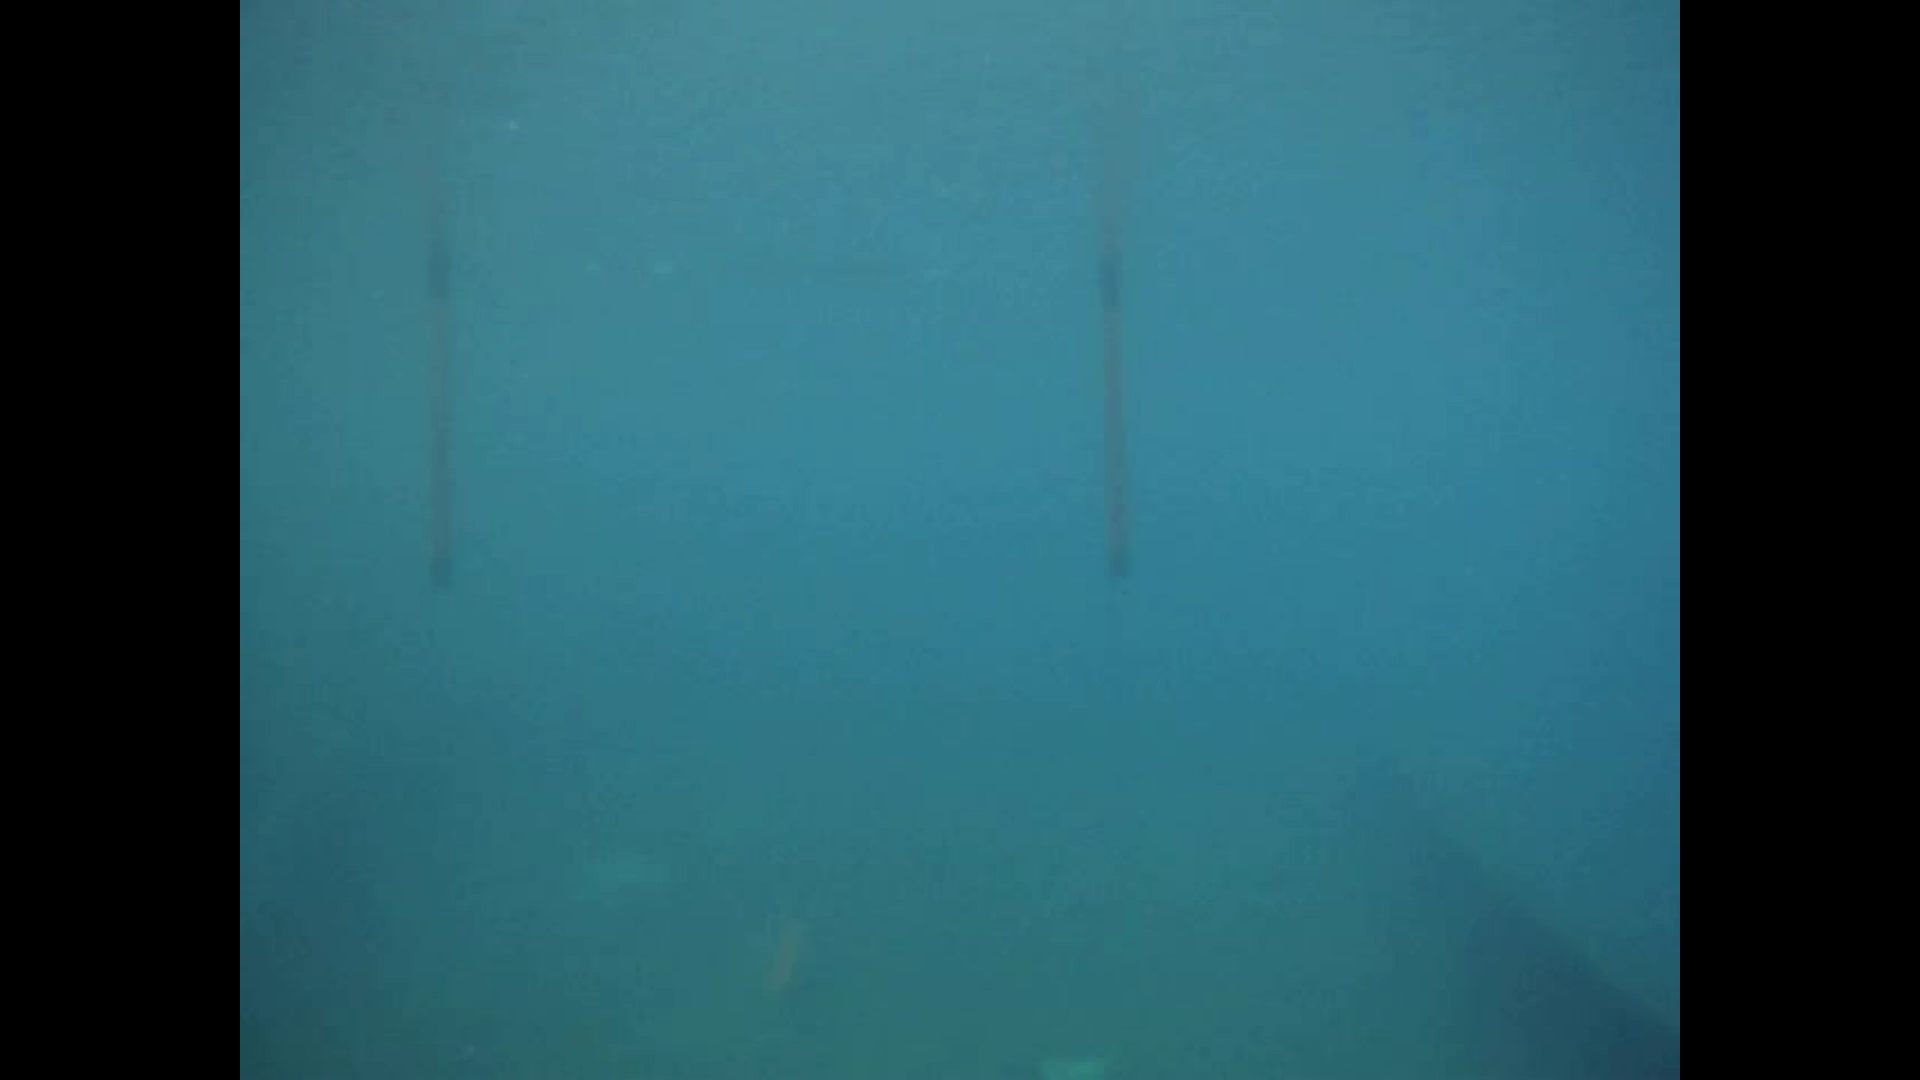gate: (429, 255, 1133, 600)
